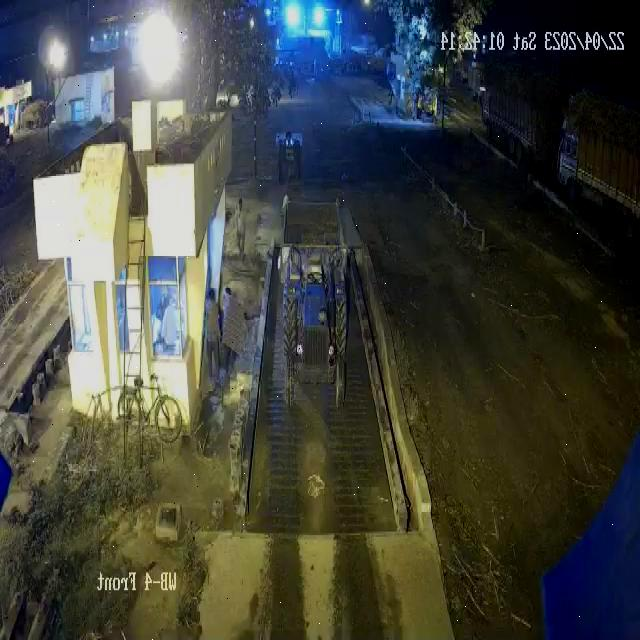Tratores - v5 YOLO V8L 2024-11-13: (281, 255, 350, 408)
